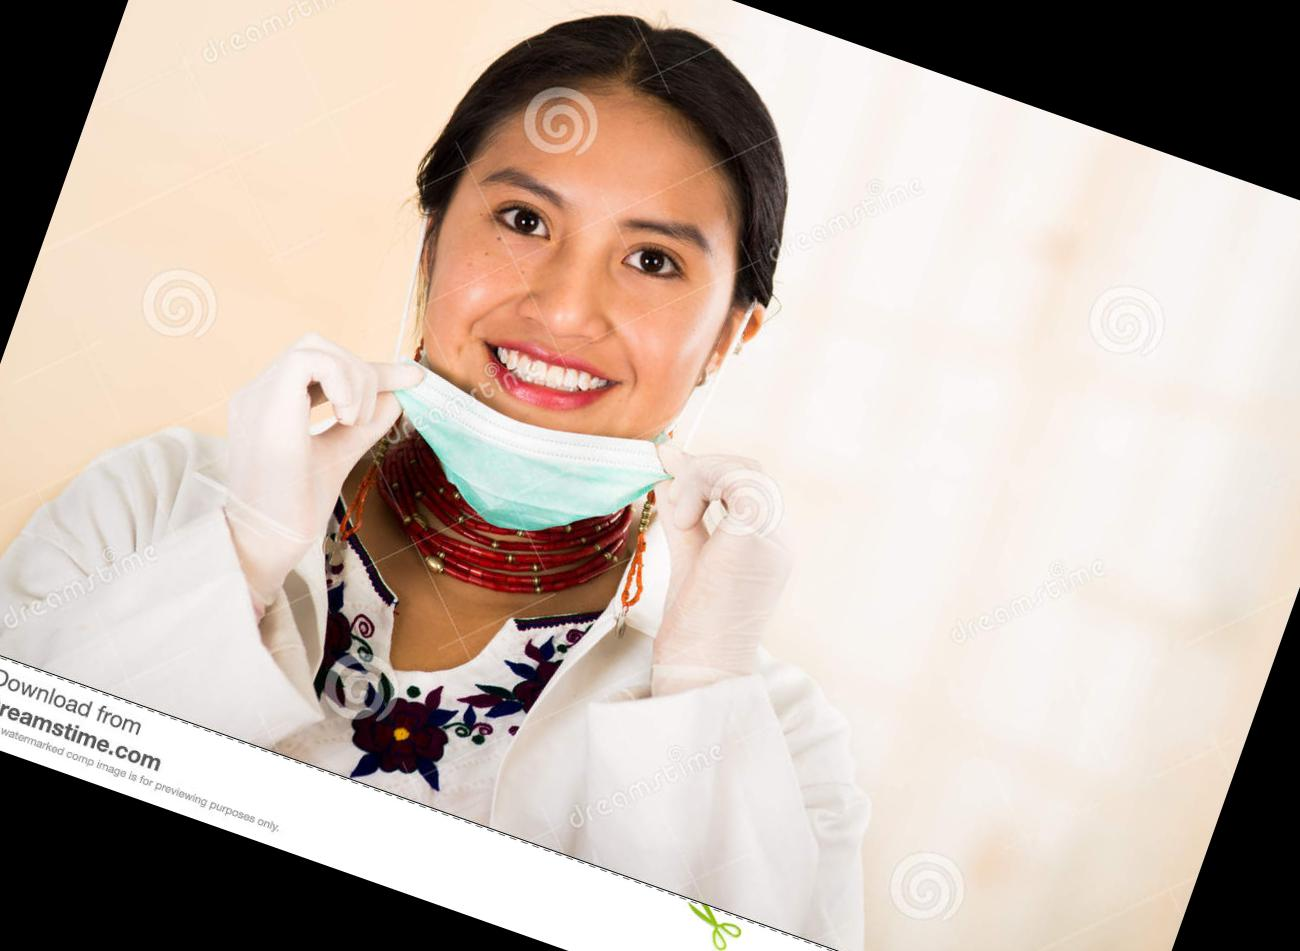mask_weared_incorrect: (382, 144, 743, 531)
